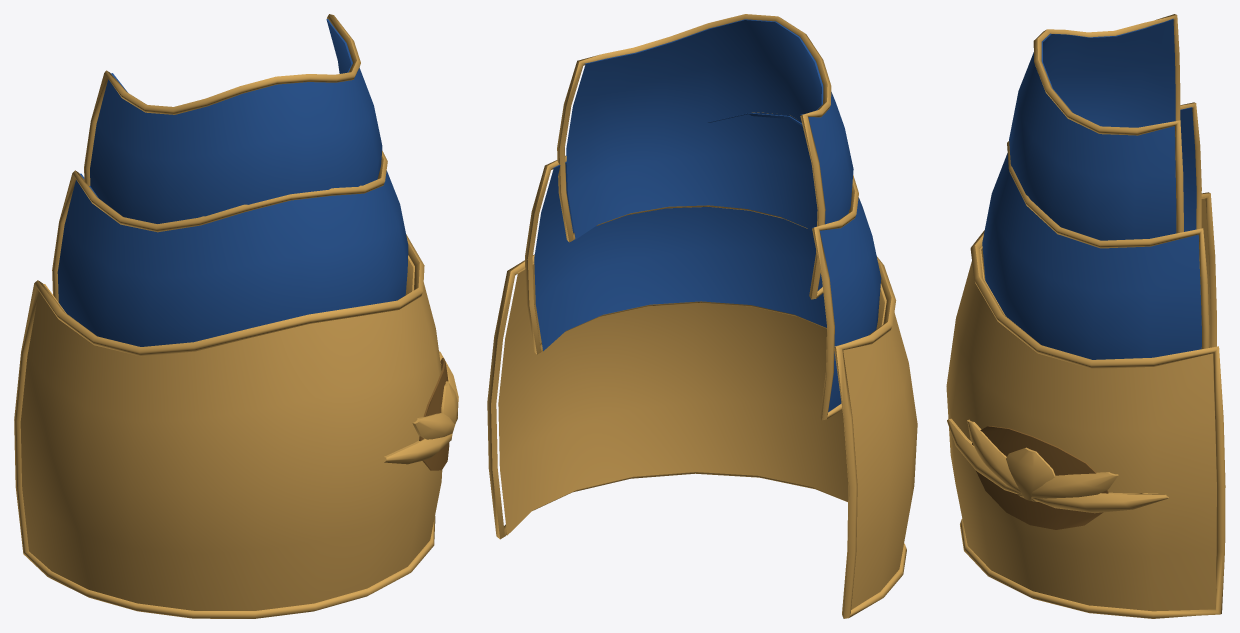
The model's file is shoulder-armour-far.glb.
The picture shows the model from 3 angles, left to right: view 1: azimuth 30°, elevation 25°; view 2: azimuth 150°, elevation 25°; view 3: azimuth 270°, elevation 25°; orthographic projection. The views are drawn at different scales.
Visible parts, largest first — view 1: OriginalLeftShoulderArmour; view 2: OriginalLeftShoulderArmour; view 3: OriginalLeftShoulderArmour.
Boxes of the visible parts, <box> form: OriginalLeftShoulderArmour: <box>14,14,458,618</box>; OriginalLeftShoulderArmour: <box>487,14,917,618</box>; OriginalLeftShoulderArmour: <box>946,14,1225,618</box>.
Bounding box in the file's own units: 0.2397 × 0.302 × 0.1561.
